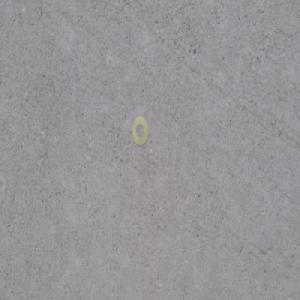Washer: (130, 114, 148, 146)
